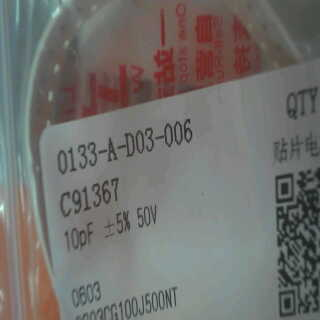10pF: (57, 216, 99, 252)
